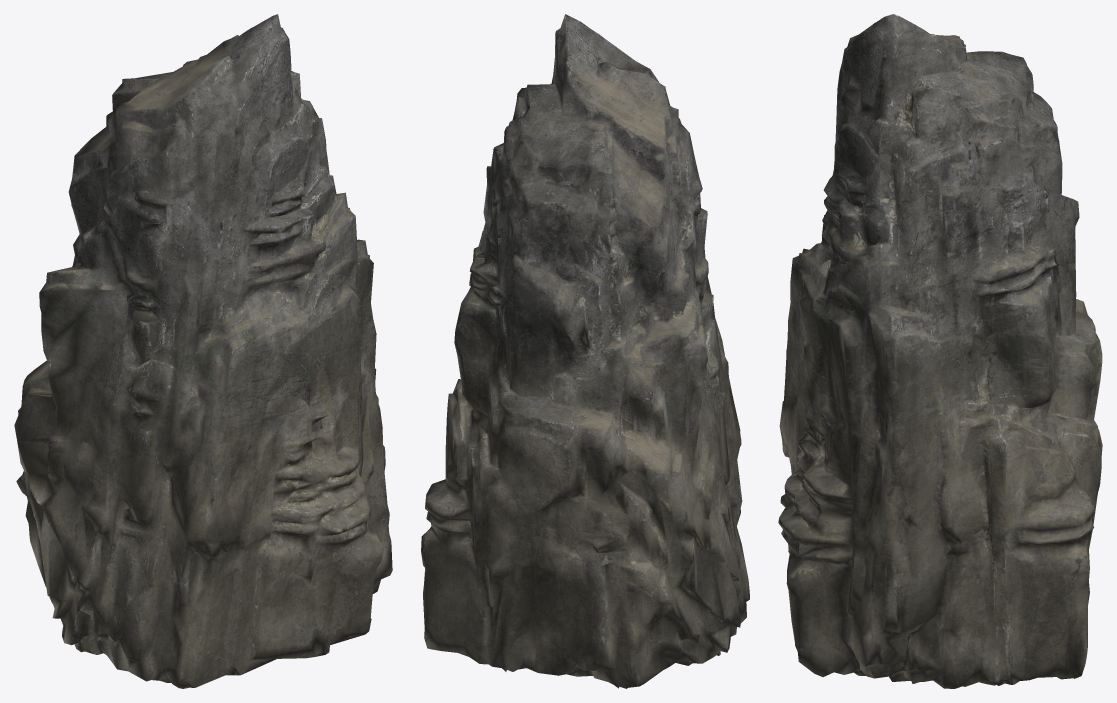
File: Muspelheim_Basalt_Ridge.glb
The picture shows the model from 3 angles, left to right: view 1: azimuth 30°, elevation 25°; view 2: azimuth 150°, elevation 25°; view 3: azimuth 270°, elevation 25°; orthographic projection. The views are drawn at different scales.
Visible parts, largest first — view 1: rock2_lp; view 2: rock2_lp; view 3: rock2_lp.
Boxes of the visible parts, bbox=[...] form: rock2_lp: bbox=[14, 14, 392, 688]; rock2_lp: bbox=[421, 14, 749, 688]; rock2_lp: bbox=[778, 14, 1102, 688].
Bounding box in the file's own units: 22.87 × 42.31 × 19.48.
1 material, 1 textured.
